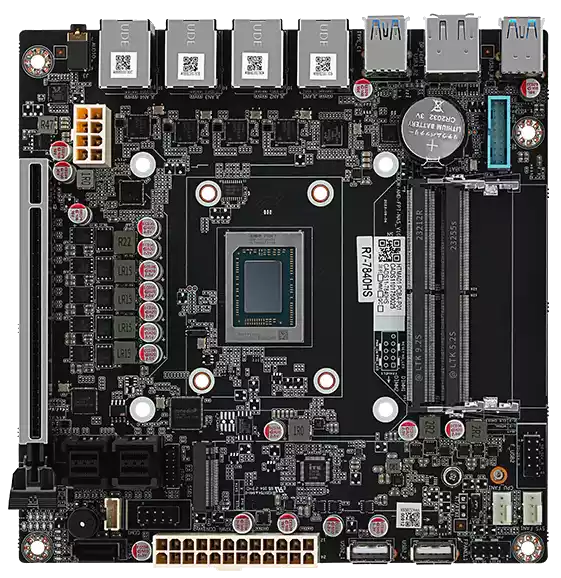Induktor: (112, 314, 135, 338), (113, 230, 136, 253), (287, 418, 310, 441), (464, 419, 487, 442), (418, 414, 440, 438), (113, 259, 135, 282), (114, 287, 136, 310), (113, 340, 135, 362), (76, 168, 94, 189), (37, 115, 56, 134), (386, 459, 400, 473)
